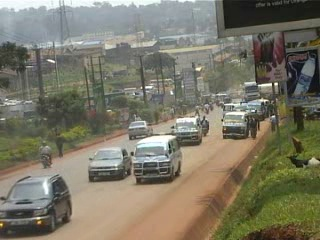Car: (0, 171, 74, 232), (85, 142, 135, 181), (124, 118, 153, 141)
Motorcycle: (37, 138, 56, 169), (200, 114, 211, 136), (203, 101, 212, 113)
